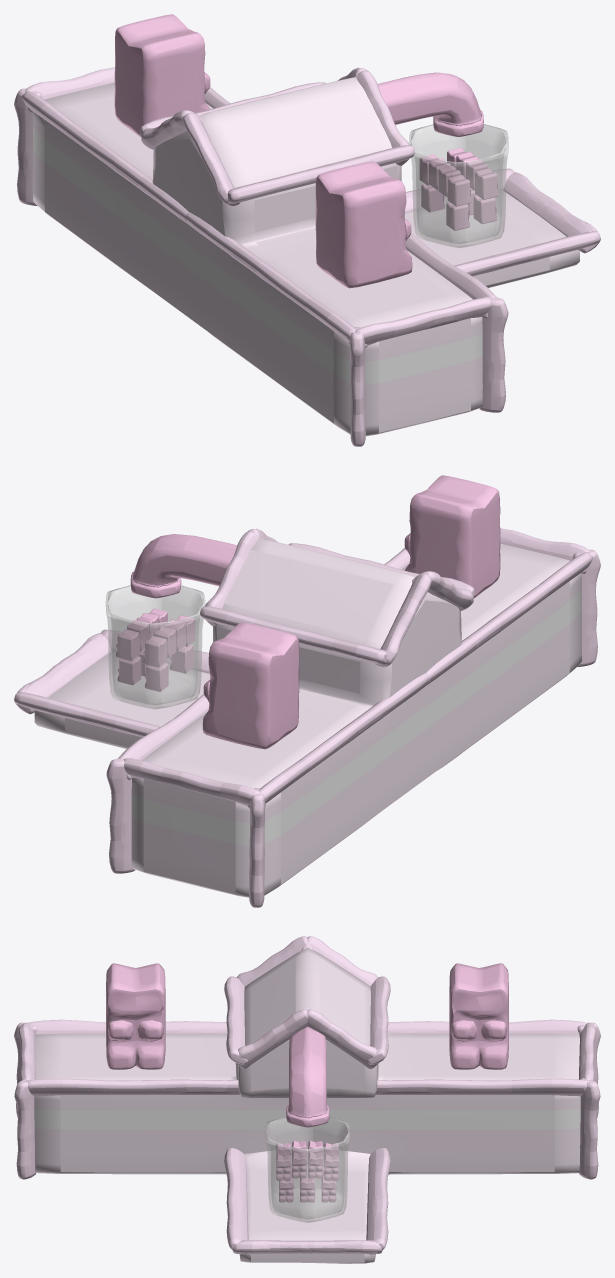
File: Tower_Support_Speed.fbx
3 views of the same model, one above another, from view 1: azimuth 30°, elevation 25°; view 2: azimuth 150°, elevation 25°; view 3: azimuth 270°, elevation 25° (orthographic). The views are drawn at different scales.
Parts seen in each view (by area): view 1: Cube_001, Cube_057, Cube_058, Cylinder_005, Cube_060; view 2: Cube_001, Cube_057, Cube_058, Cylinder_005, Cube_060; view 3: Cube_001, Cube_057, Cube_058, Cylinder_005, Cube_060.
Boxes of the visible parts, <box> form: Cube_001: <box>32,77,579,436</box>; Cube_057: <box>14,67,600,446</box>; Cube_058: <box>114,14,412,288</box>; Cylinder_005: <box>377,72,508,248</box>; Cube_060: <box>419,147,498,230</box>; Cube_001: <box>34,538,581,897</box>; Cube_057: <box>14,528,600,907</box>; Cube_058: <box>202,475,500,749</box>; Cylinder_005: <box>105,534,237,709</box>; Cube_060: <box>116,608,195,691</box>; Cube_001: <box>34,947,580,1263</box>; Cube_057: <box>14,936,600,1254</box>; Cube_058: <box>106,963,508,1069</box>; Cylinder_005: <box>265,1026,350,1222</box>; Cube_060: <box>276,1141,338,1202</box>.
Bounding box in the file's own units: 175 × 93.62 × 273.
